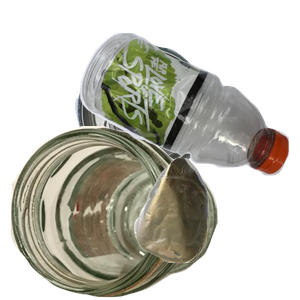glass: (10, 126, 220, 300)
metal: (73, 42, 277, 212)
plastic: (77, 30, 300, 198)
trash: (131, 155, 300, 300)
